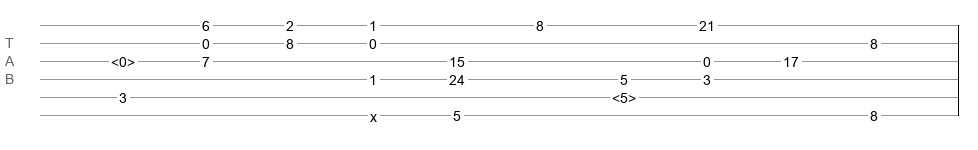0: (202, 36, 210, 46), (369, 36, 377, 46), (703, 54, 711, 64)
1: (369, 18, 377, 28), (369, 72, 377, 82)
15: (449, 54, 465, 64)
17: (783, 54, 799, 64)
2: (286, 18, 294, 28)
21: (699, 18, 715, 28)
24: (449, 72, 465, 82)
3: (119, 90, 127, 100), (703, 72, 711, 82)
5: (453, 108, 461, 118), (620, 72, 628, 82)
6: (202, 18, 210, 28)
7: (202, 54, 210, 64)
8: (286, 36, 294, 46), (536, 18, 544, 28), (870, 108, 878, 118), (870, 36, 878, 46)
harmonic: (111, 54, 135, 64), (612, 90, 636, 100)
x: (370, 109, 377, 117)
